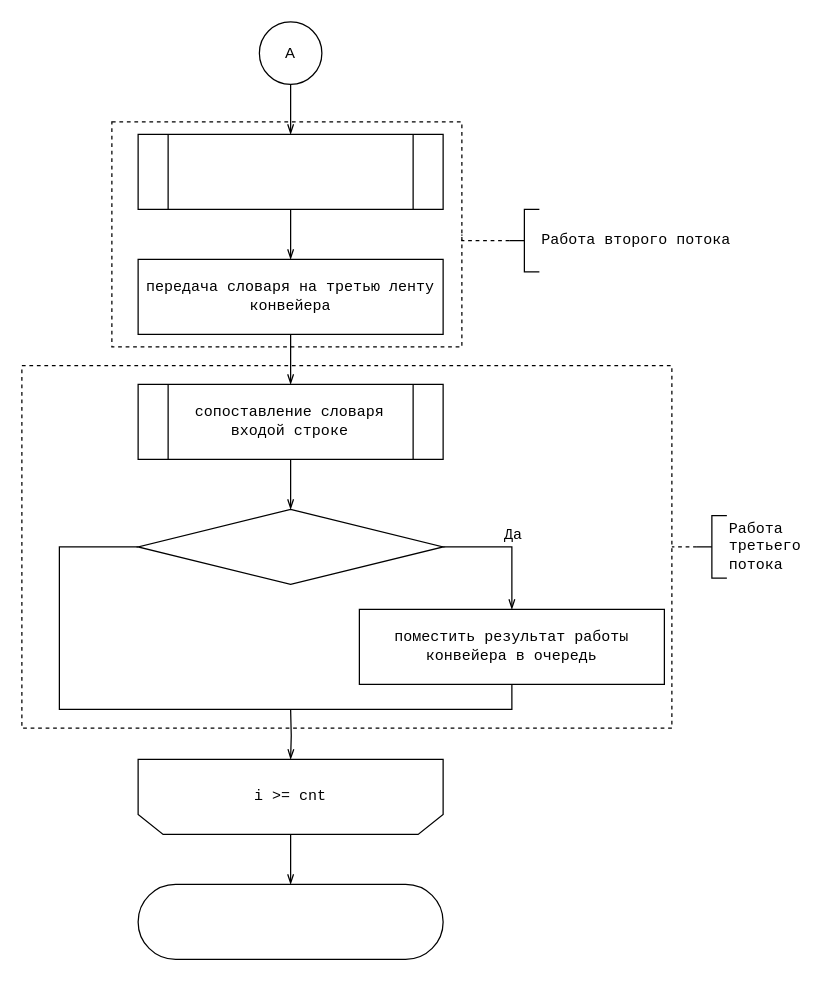
This 824x981 diagram has some shape labels left out. The shapes that lost their labels are listed below. From the top down, each one's centre as x and y in pixels, then its label:
point 290,171: генерация словаря поданной подстроки
point 290,546: i = cnt - 1?
point 290,921: Конец
